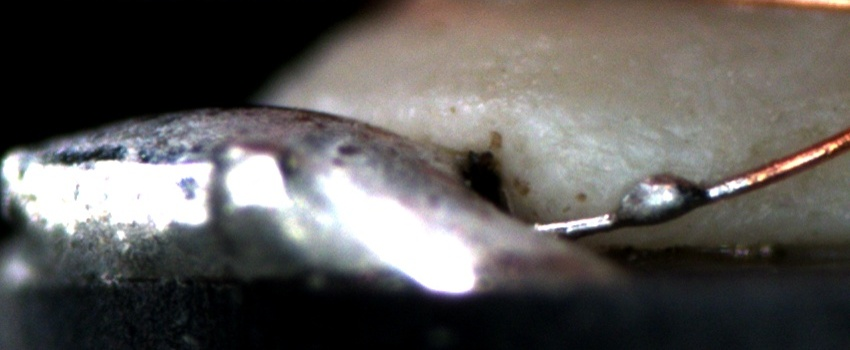TB: (618, 168, 717, 231)
TS: (535, 172, 752, 238)
TTCW: (523, 151, 790, 237)
